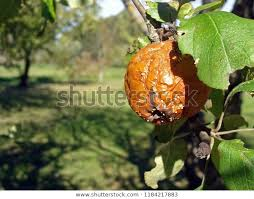damaged_apple: (123, 42, 211, 124)
